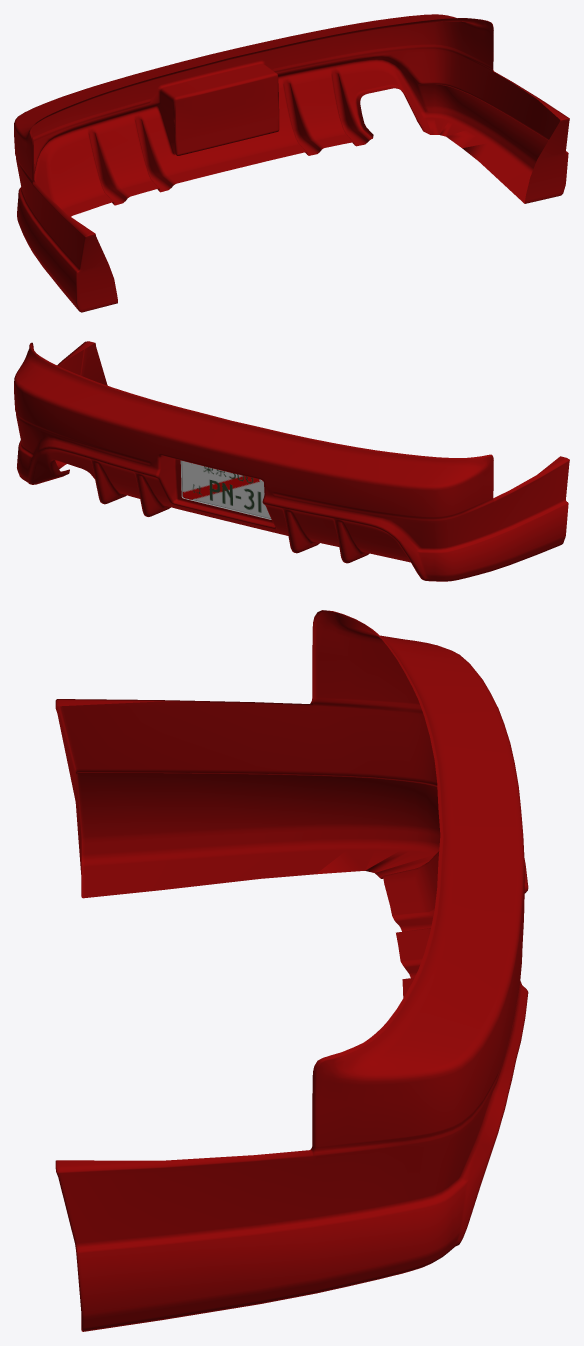
File: rearbumper_originlabofujin.glb
The picture shows the model from 3 angles, top to bottom: view 1: azimuth 30°, elevation 25°; view 2: azimuth 150°, elevation 25°; view 3: azimuth 270°, elevation 25°; orthographic projection. The views are drawn at different scales.
Parts seen in each view (by area): view 1: Bumper; view 2: Bumper, Plate; view 3: Bumper.
Part boxes in pixels (x1,y1,x2,y2): Bumper: (14,14,569,312); Bumper: (14,341,569,581); Plate: (180,460,271,519); Bumper: (55,610,528,1331).
Size of the model in its own units: 1.71 by 0.4405 by 0.7128.
Materials: 3 (1 with a texture image).
